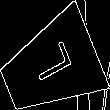L_SW: (25, 43, 75, 92)
